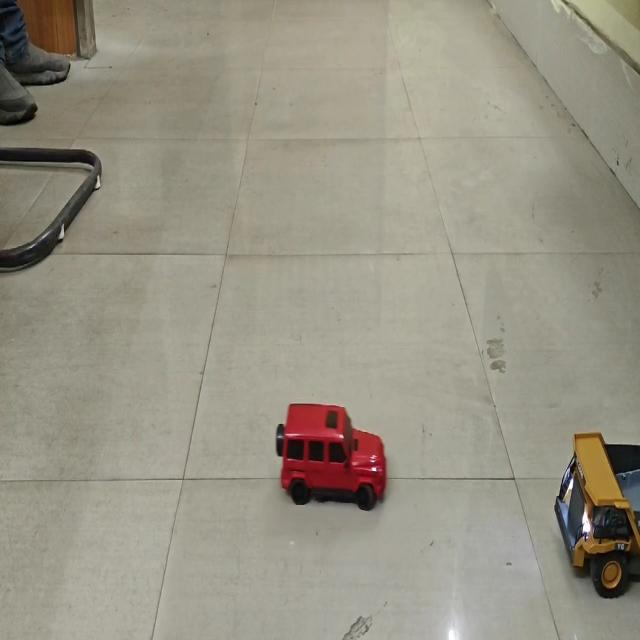dump_truck: (553, 424, 640, 601)
light_vehicle: (271, 394, 389, 510)
